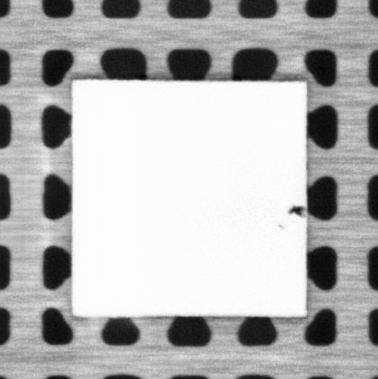DIE_INK: (288, 203, 304, 217)
